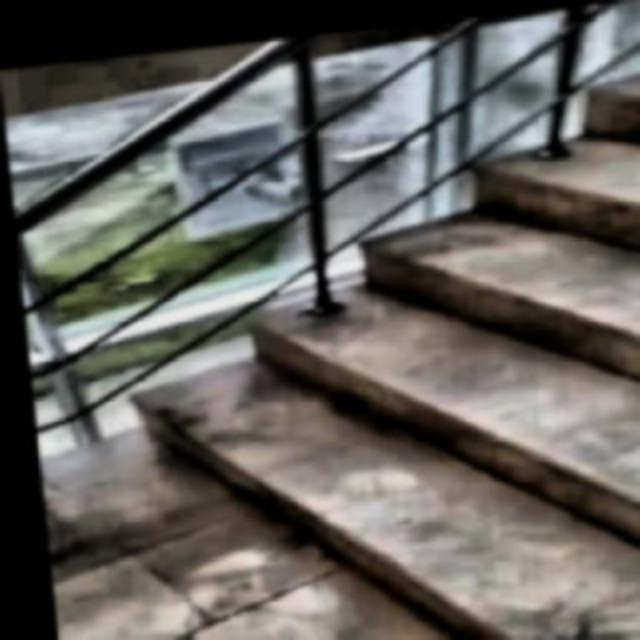stair: (83, 61, 640, 638)
